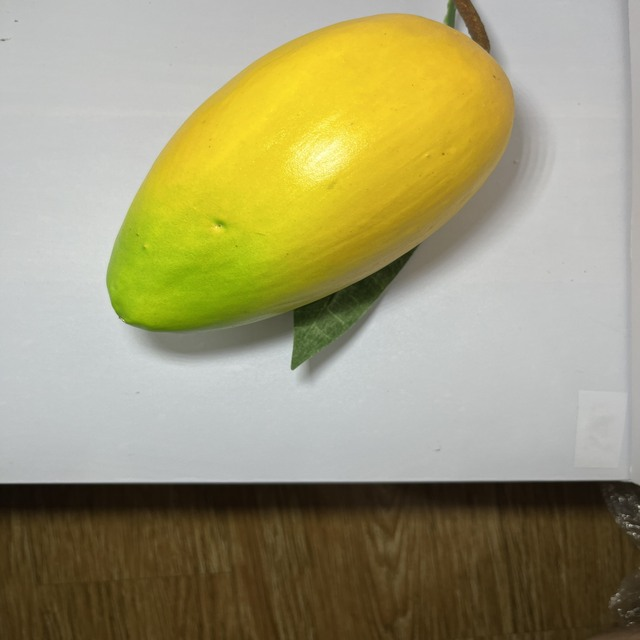Xoai: (102, 9, 534, 346), (299, 67, 326, 70)
